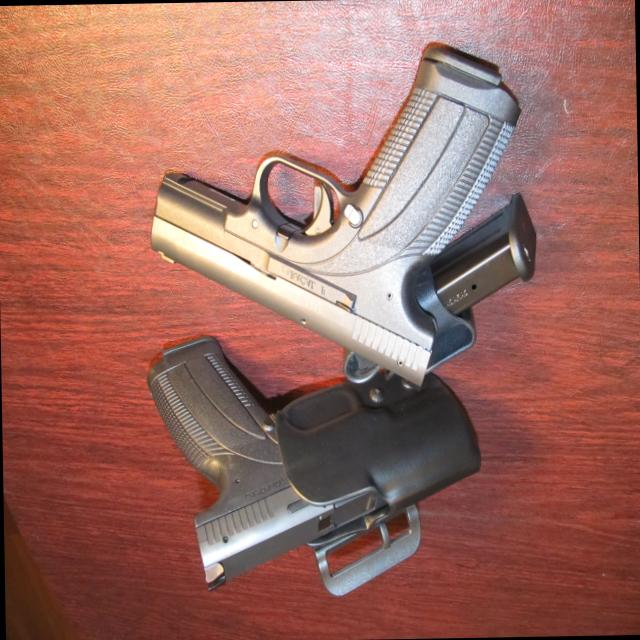Gun: (91, 80, 604, 385), (140, 292, 498, 576)
